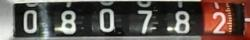digits: (136, 10, 154, 33), (60, 11, 77, 34), (22, 9, 38, 33), (173, 10, 190, 32), (99, 8, 115, 31), (211, 11, 226, 33)
